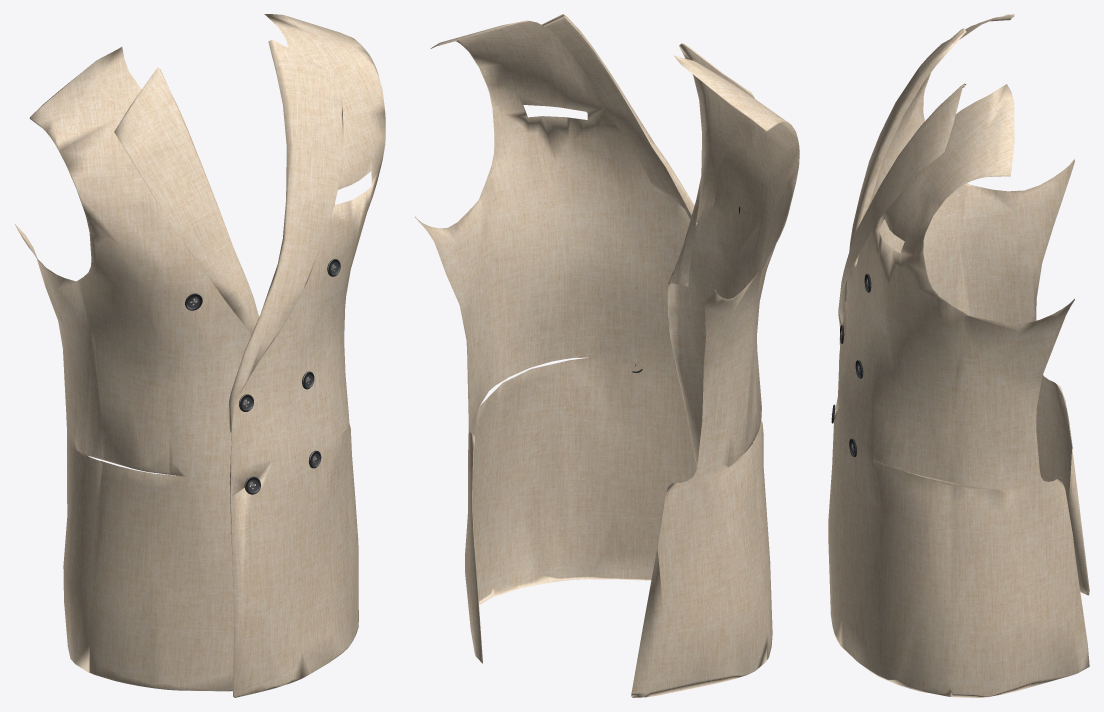
The model's file is brested_noch_new.glb.
3 renders of one model, left to right at view 1: azimuth 30°, elevation 25°; view 2: azimuth 150°, elevation 25°; view 3: azimuth 270°, elevation 25°, orthographic. The views are drawn at different scales.
Parts seen in each view (by area): view 1: noch_double_breasted_suit, double_breasted_buttons; view 2: noch_double_breasted_suit; view 3: noch_double_breasted_suit, double_breasted_buttons.
Boxes of the visible parts, <box> form: noch_double_breasted_suit: <box>15,14,385,697</box>; double_breasted_buttons: <box>185,259,340,494</box>; noch_double_breasted_suit: <box>415,14,799,697</box>; noch_double_breasted_suit: <box>828,14,1089,697</box>; double_breasted_buttons: <box>831,273,871,456</box>.
Bounding box in the file's own units: 0.0585 × 0.1021 × 0.0413.
3 materials, 2 textured.
